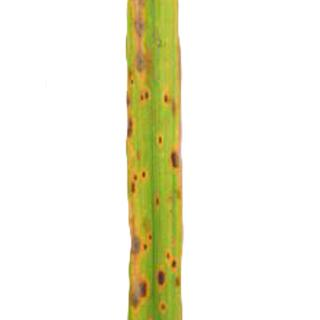bercak-Cokelat: (152, 248, 185, 298), (128, 266, 152, 315), (122, 165, 146, 208), (127, 223, 155, 257), (124, 112, 139, 148), (139, 84, 154, 108), (171, 146, 181, 180), (158, 132, 168, 152), (161, 87, 171, 106)
